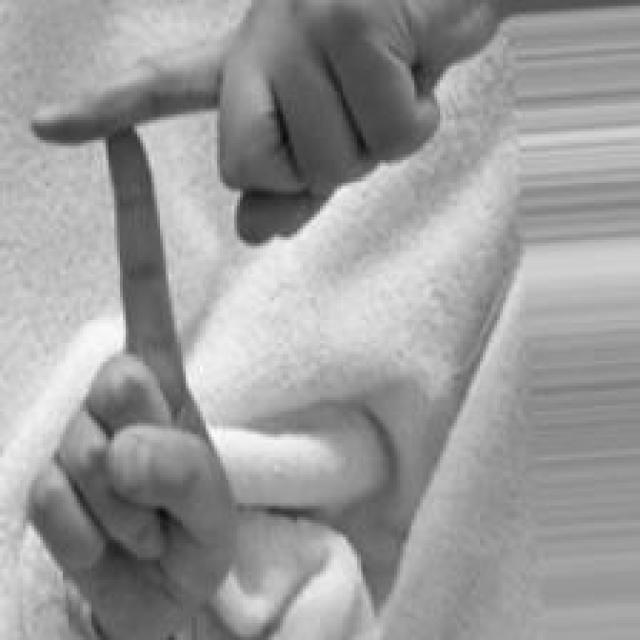T: (24, 1, 496, 640)
